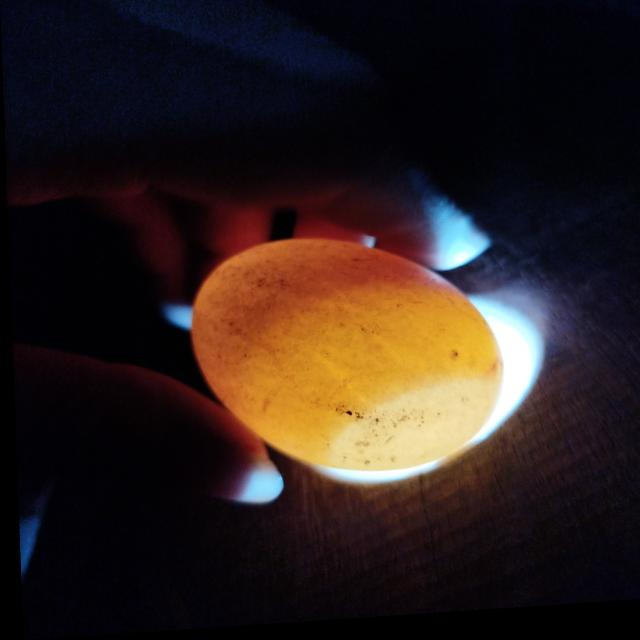Camara de Ar: (323, 386, 499, 475)
Gema Quebrada: (189, 244, 452, 408)
